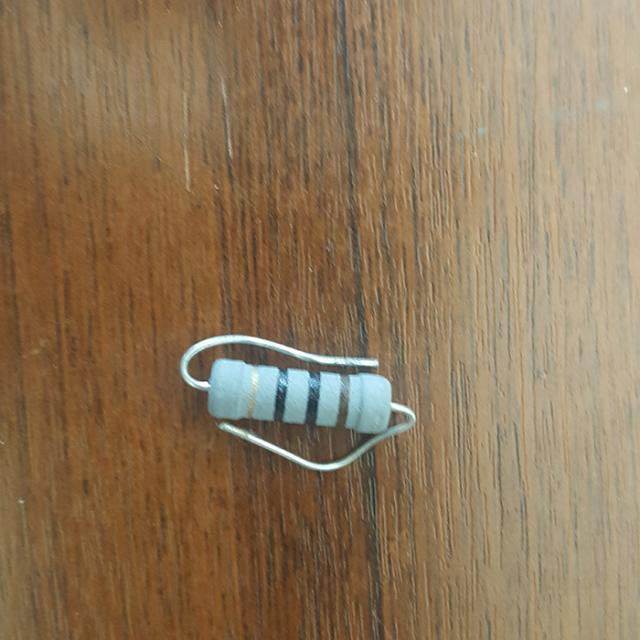black: (304, 372, 320, 423), (273, 369, 286, 420)
brown: (336, 375, 347, 424)
gold: (248, 366, 257, 416)
resistor: (189, 345, 428, 452)
